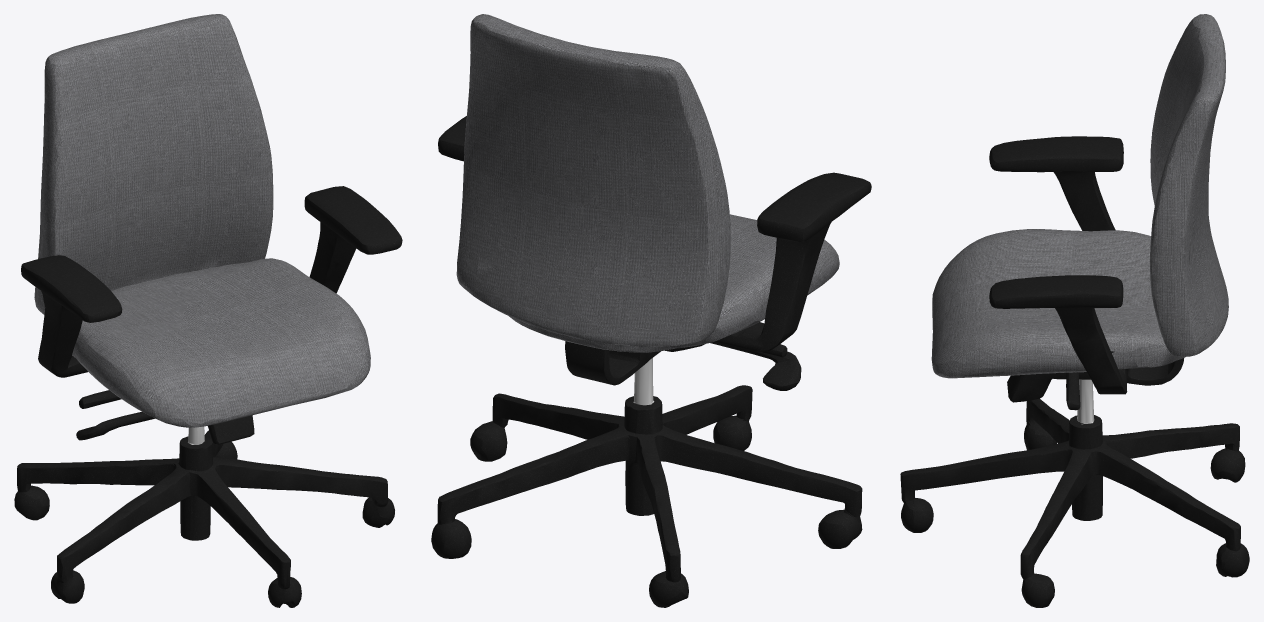
The model's file is office-basic-chair.glb.
3 renders of one model, left to right at view 1: azimuth 30°, elevation 25°; view 2: azimuth 150°, elevation 25°; view 3: azimuth 270°, elevation 25°, orthographic. The views are drawn at different scales.
Visible parts, largest first — view 1: office-basic-chair; view 2: office-basic-chair; view 3: office-basic-chair.
Boxes of the visible parts, x1,y1,x2,y2 form: office-basic-chair: (14, 14, 402, 607); office-basic-chair: (431, 14, 871, 607); office-basic-chair: (900, 14, 1249, 607).
Bounding box in the file's own units: 0.9457 × 1.25 × 0.838.
Materials: 3 (2 with a texture image).
